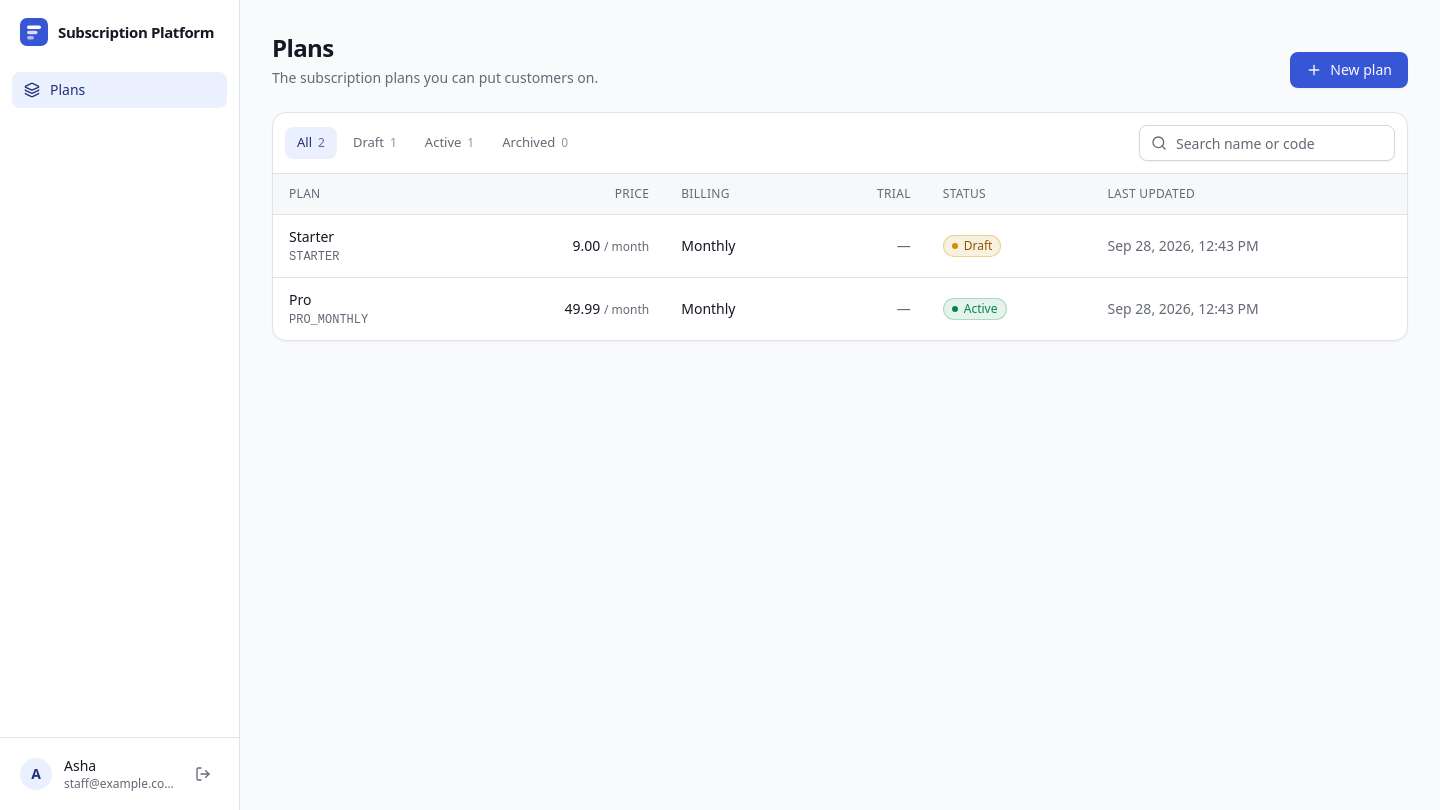
plans › lists plans and filters them by status
Expected: the link "Pro" is shown, top-left (289, 290), bottom-right (312, 308)
Expected: the link "Starter" is shown, top-left (289, 226), bottom-right (334, 246)
Click the button "Draft 1" at (375, 143), box top-left (341, 127), bottom-right (409, 159)
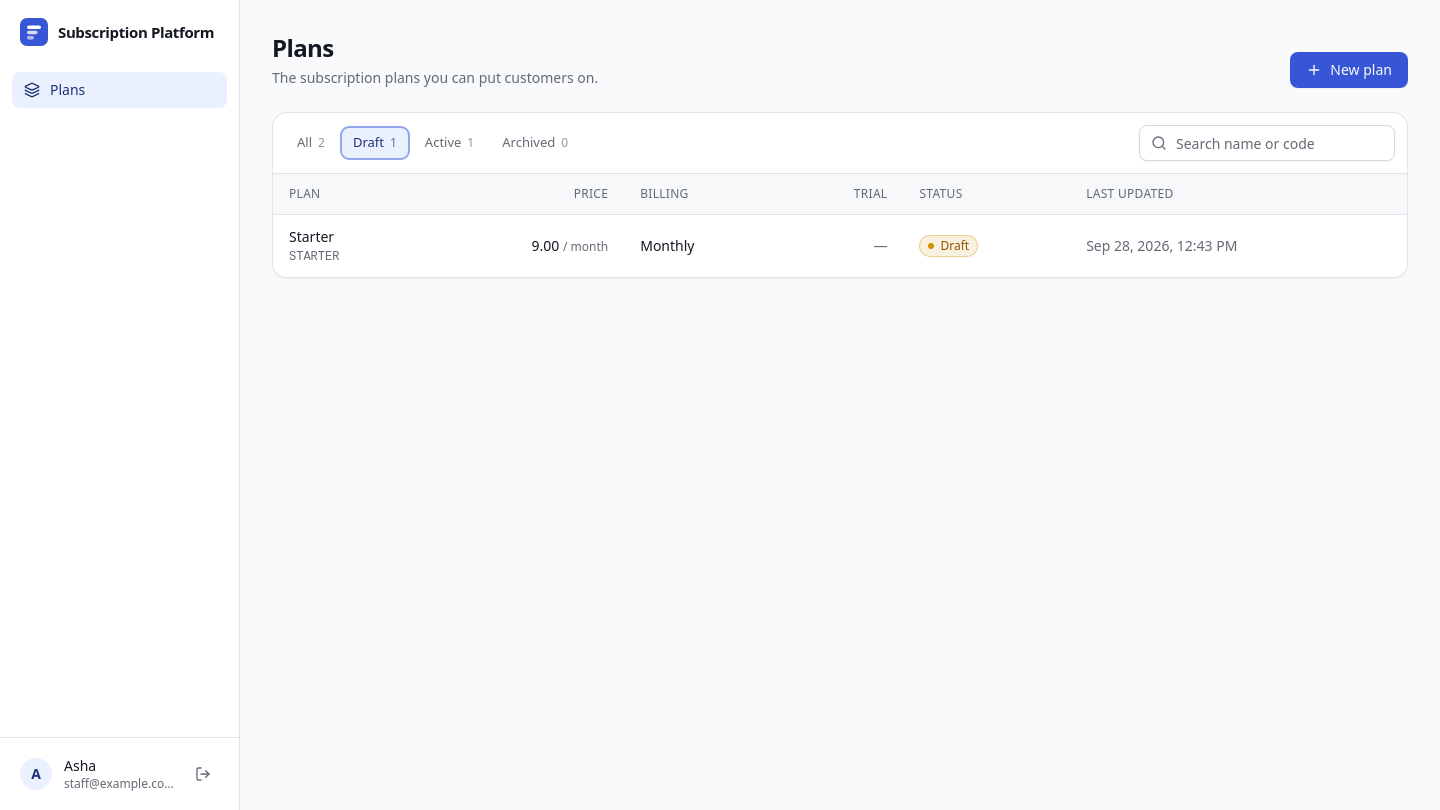
Expected: the link "Starter" is shown, top-left (289, 226), bottom-right (334, 246)
Result: the link "Pro" is gone
